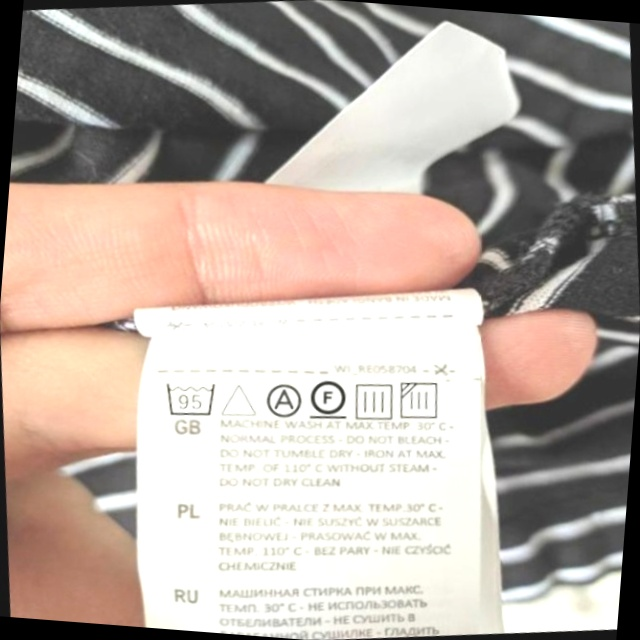95C: (160, 373, 223, 423)
bleach: (218, 375, 260, 423)
drip_dry: (349, 375, 400, 426)
drip_dry_in_shade: (395, 375, 448, 427)
dry_clean: (260, 378, 306, 422)
dry_clean_petrol_only: (305, 372, 353, 425)
